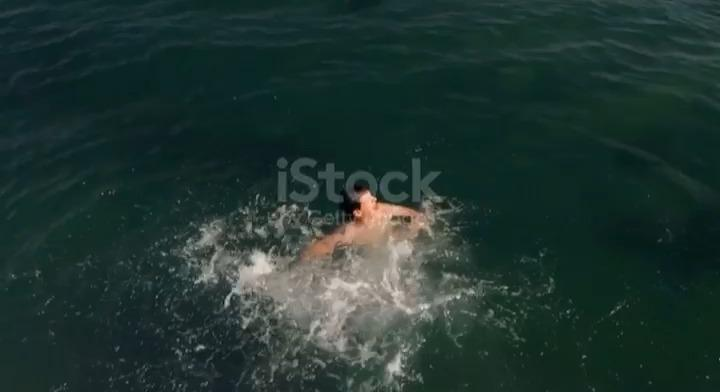Drowning: (233, 128, 476, 310)
